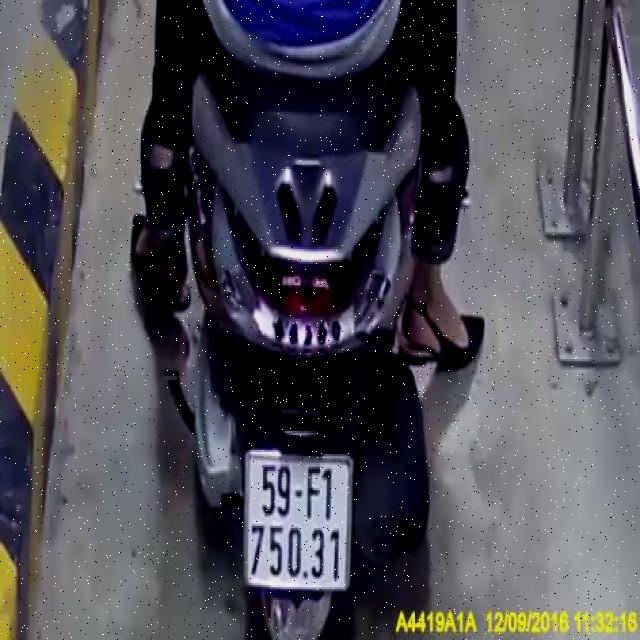0: (288, 524, 302, 578)
1: (328, 524, 342, 582), (321, 467, 334, 524)
3: (308, 528, 326, 579)
5: (267, 524, 286, 578), (260, 460, 276, 522)
7: (250, 523, 266, 575)
9: (277, 464, 293, 519)
F: (307, 465, 321, 524)
